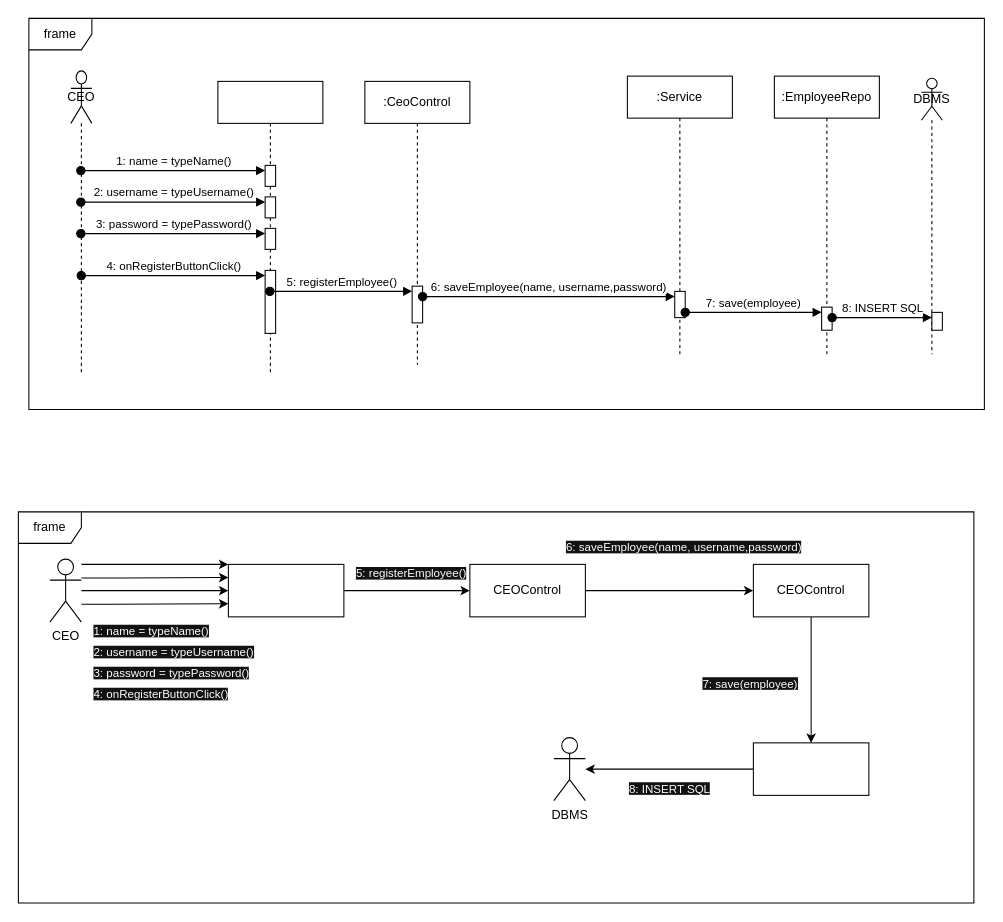
Some shapes in this 1003 by 922 pixel diagram are drawn without their labels. Here are the shapes that lost their labels. From the top down, the centre of each, then its label:
the point at 270,227: :CeoWindow
the point at 285,590: CEOWindow
the point at 810,768: EmployeeRepo
